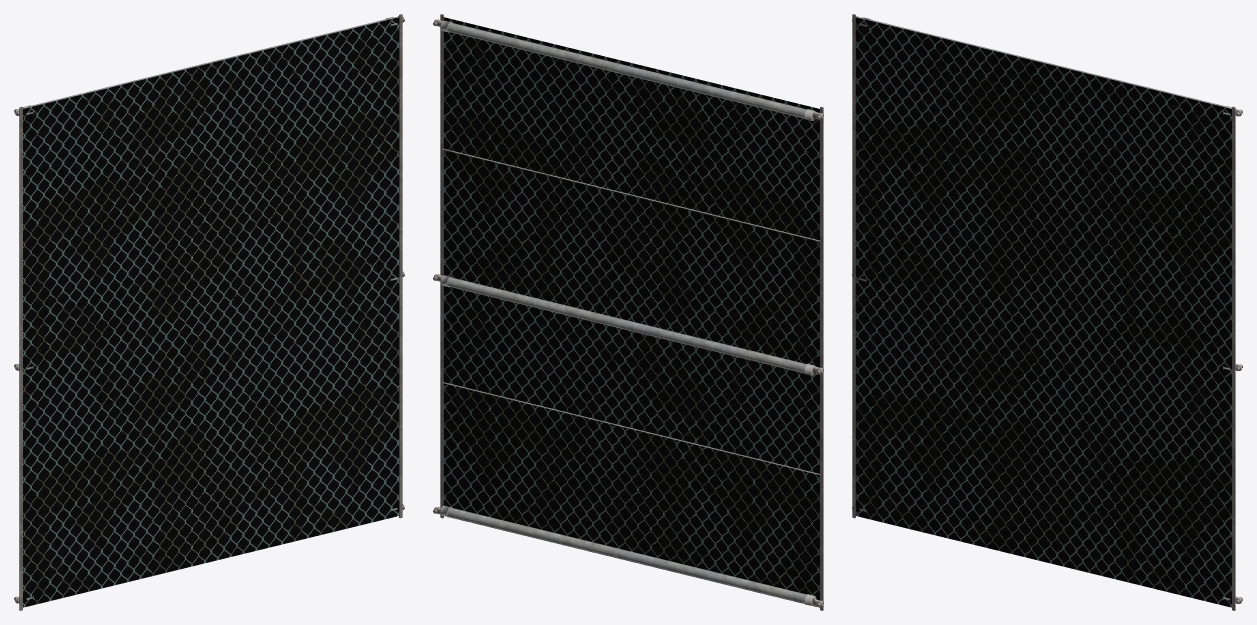
The model's file is real-chainlink.glb.
The picture shows the model from 3 angles, left to right: view 1: azimuth 30°, elevation 25°; view 2: azimuth 150°, elevation 25°; view 3: azimuth 330°, elevation 25°; orthographic projection.
Parts seen in each view (by area): view 1: modular_chainlink_fence_double; view 2: modular_chainlink_fence_double; view 3: modular_chainlink_fence_double.
Boxes of the visible parts, box(x1,y1,x2,y2) form: modular_chainlink_fence_double: box(14, 14, 404, 610); modular_chainlink_fence_double: box(433, 14, 823, 610); modular_chainlink_fence_double: box(852, 14, 1242, 610).
Bounding box in the file's own units: 1.91 × 2.37 × 0.0486.
Materials: 2 (2 with a texture image).
